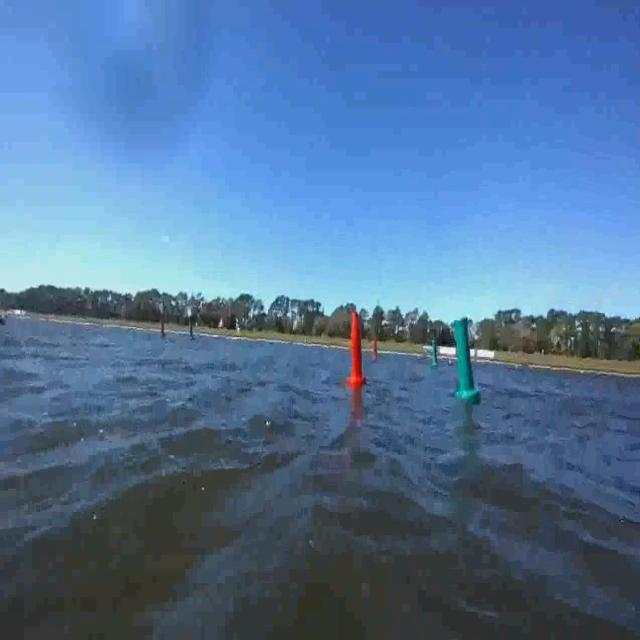green-column-buoy: (451, 316, 481, 402), (430, 341, 439, 368), (187, 318, 195, 340)
red-column-buoy: (347, 312, 366, 388), (370, 336, 378, 361), (160, 318, 168, 338)
